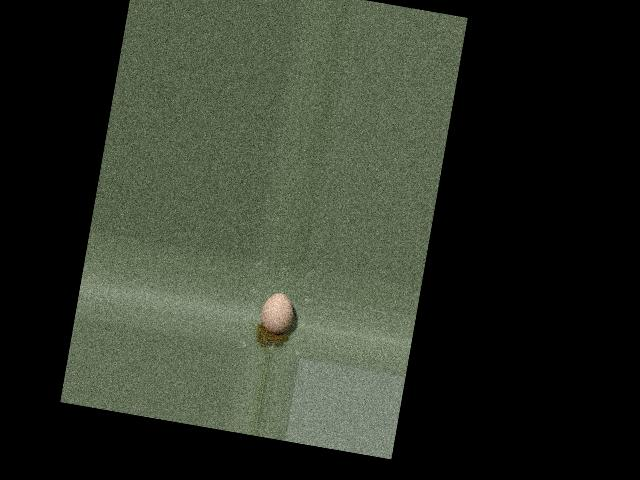egg: (259, 290, 296, 335)
